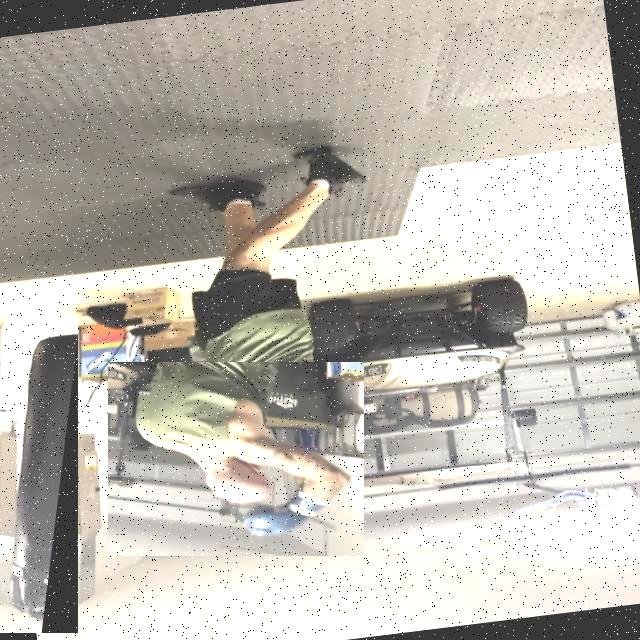punch: (108, 362, 364, 556)
